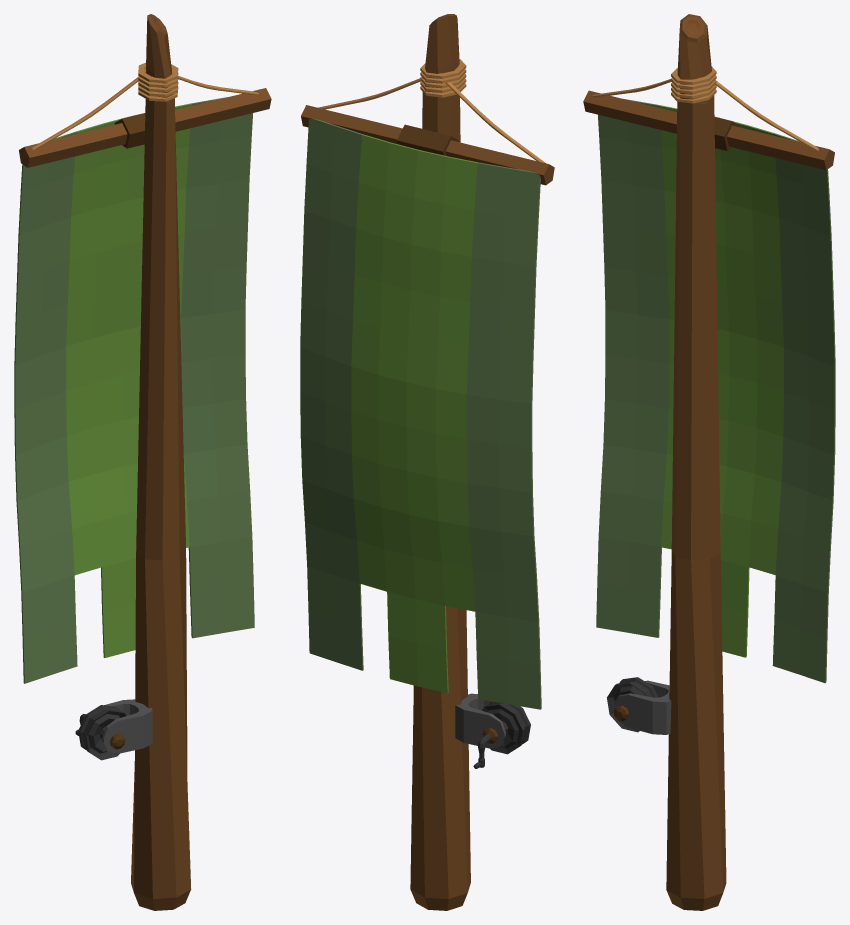
File: G_Flag_Green.fbx
3 renders of one model, left to right at view 1: azimuth 30°, elevation 25°; view 2: azimuth 150°, elevation 25°; view 3: azimuth 330°, elevation 25°, orthographic.
Parts seen in each view (by area): view 1: G_Flag_Green, G_Flag_Roll.001; view 2: G_Flag_Green, G_Flag_Roll.001; view 3: G_Flag_Green, G_Flag_Roll.001.
Part boxes in pixels (bbox=[...]): G_Flag_Green: bbox=[14, 14, 271, 910]; G_Flag_Roll.001: bbox=[75, 705, 125, 760]; G_Flag_Green: bbox=[300, 14, 554, 910]; G_Flag_Roll.001: bbox=[473, 701, 530, 768]; G_Flag_Green: bbox=[583, 14, 835, 910]; G_Flag_Roll.001: bbox=[607, 677, 658, 732].
Size of the model in its own units: 147 by 514 by 58.34.
